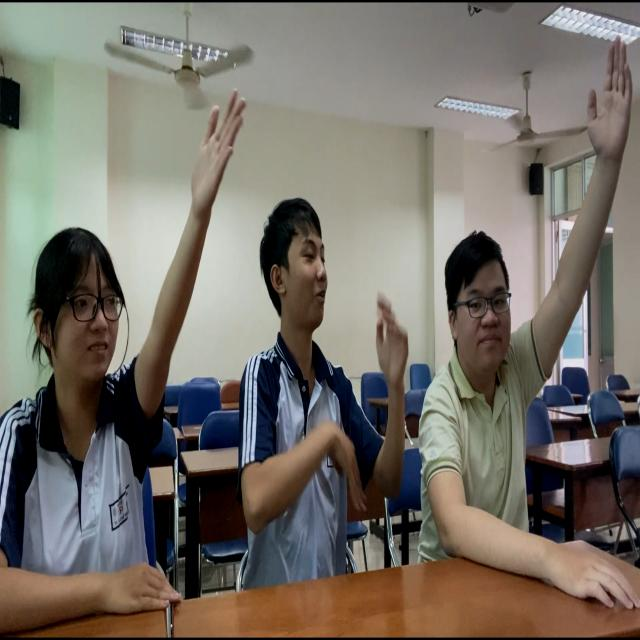raise_hand: (11, 88, 249, 640), (435, 32, 635, 569)
